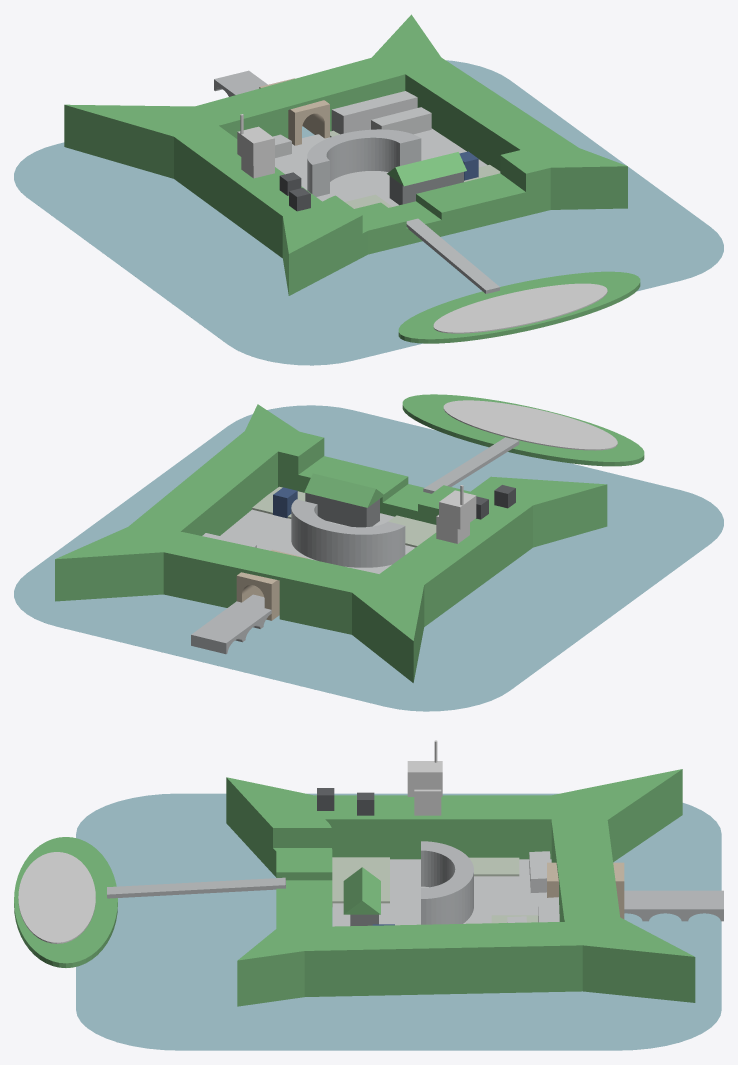
File: fort2.glb
The picture shows the model from 3 angles, top to bottom: view 1: azimuth 30°, elevation 25°; view 2: azimuth 150°, elevation 25°; view 3: azimuth 270°, elevation 25°; orthographic projection. The views are drawn at different scales.
Parts seen in each view (by area): view 1: Mesh_Mesh_head_geo.001_lambert2SG.001; view 2: Mesh_Mesh_head_geo.001_lambert2SG.001; view 3: Mesh_Mesh_head_geo.001_lambert2SG.001.
Boxes of the visible parts, x1,y1,x2,y2 form: Mesh_Mesh_head_geo.001_lambert2SG.001: (14,14,723,365); Mesh_Mesh_head_geo.001_lambert2SG.001: (14,394,723,711); Mesh_Mesh_head_geo.001_lambert2SG.001: (14,740,723,1050).
Size of the model in its own units: 0.275 by 0.061 by 0.321.
